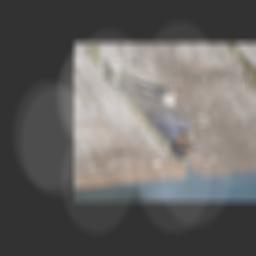Swallow: (103, 60, 198, 163)
